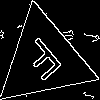F: (19, 35, 71, 90)
